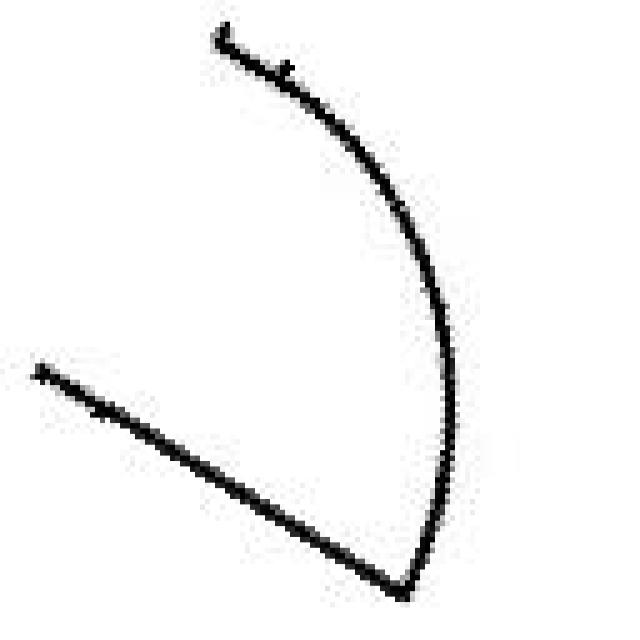door: (25, 21, 450, 596)
